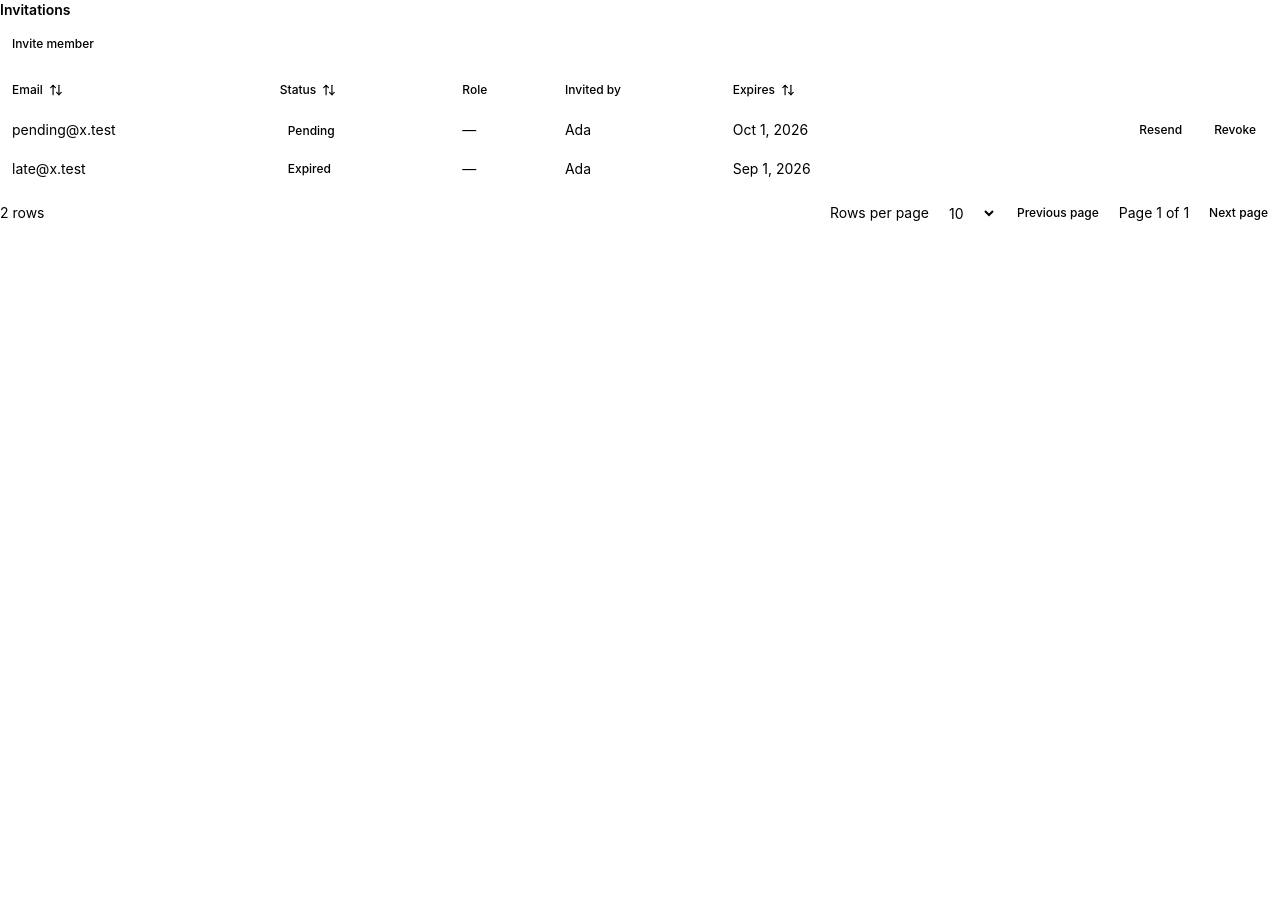
Test case: Invite: refusals are named (F-156) › 403 forbidden (a role the admin may not confer) says the action is not permitted
Expected: the text "pending@x.test" is shown, [0, 108, 268, 152]
Click the button "Invite member" at (53, 44), box [0, 28, 106, 60]
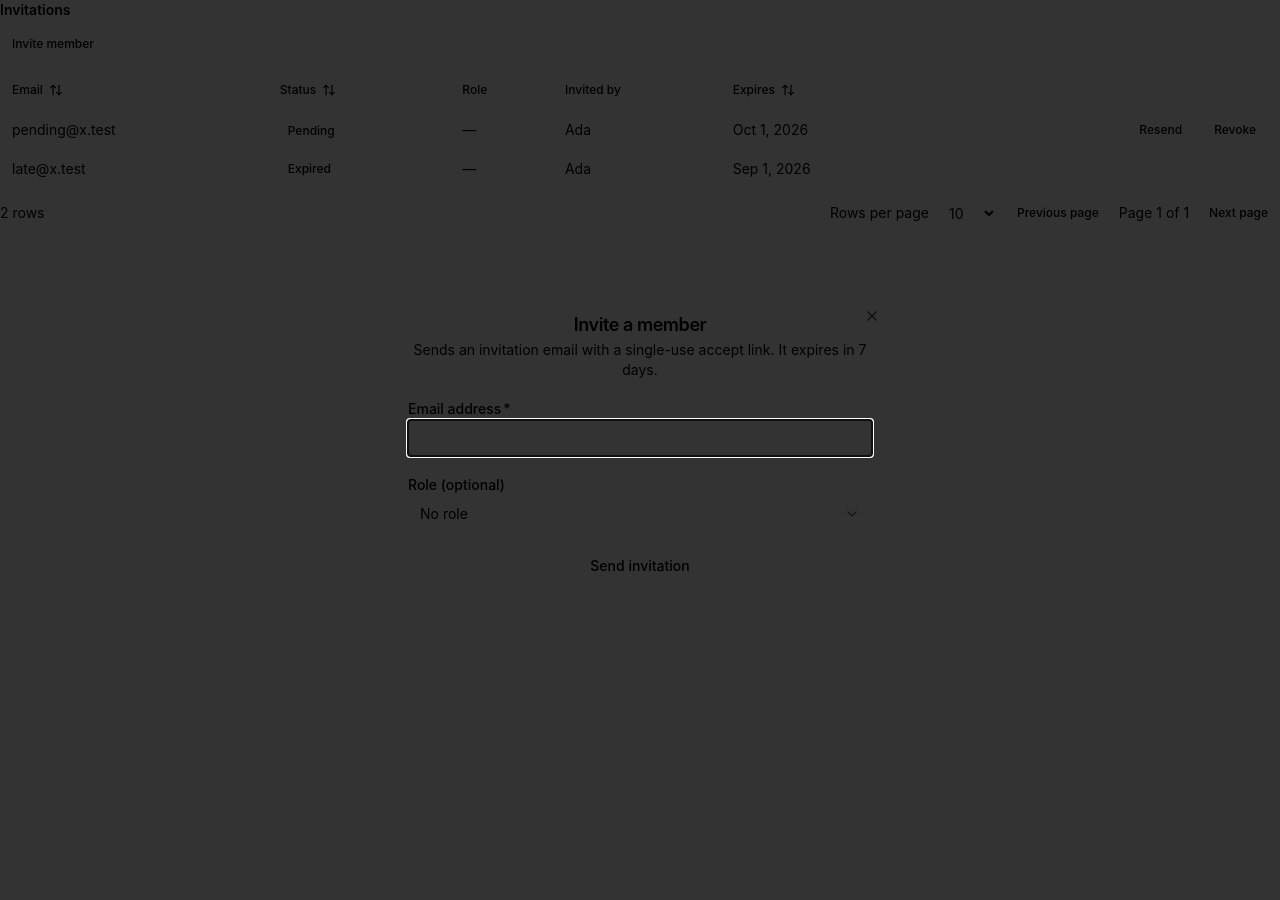
Type "new@x.test" into the field labelled "Email address*" at (640, 438), box [408, 420, 872, 456]
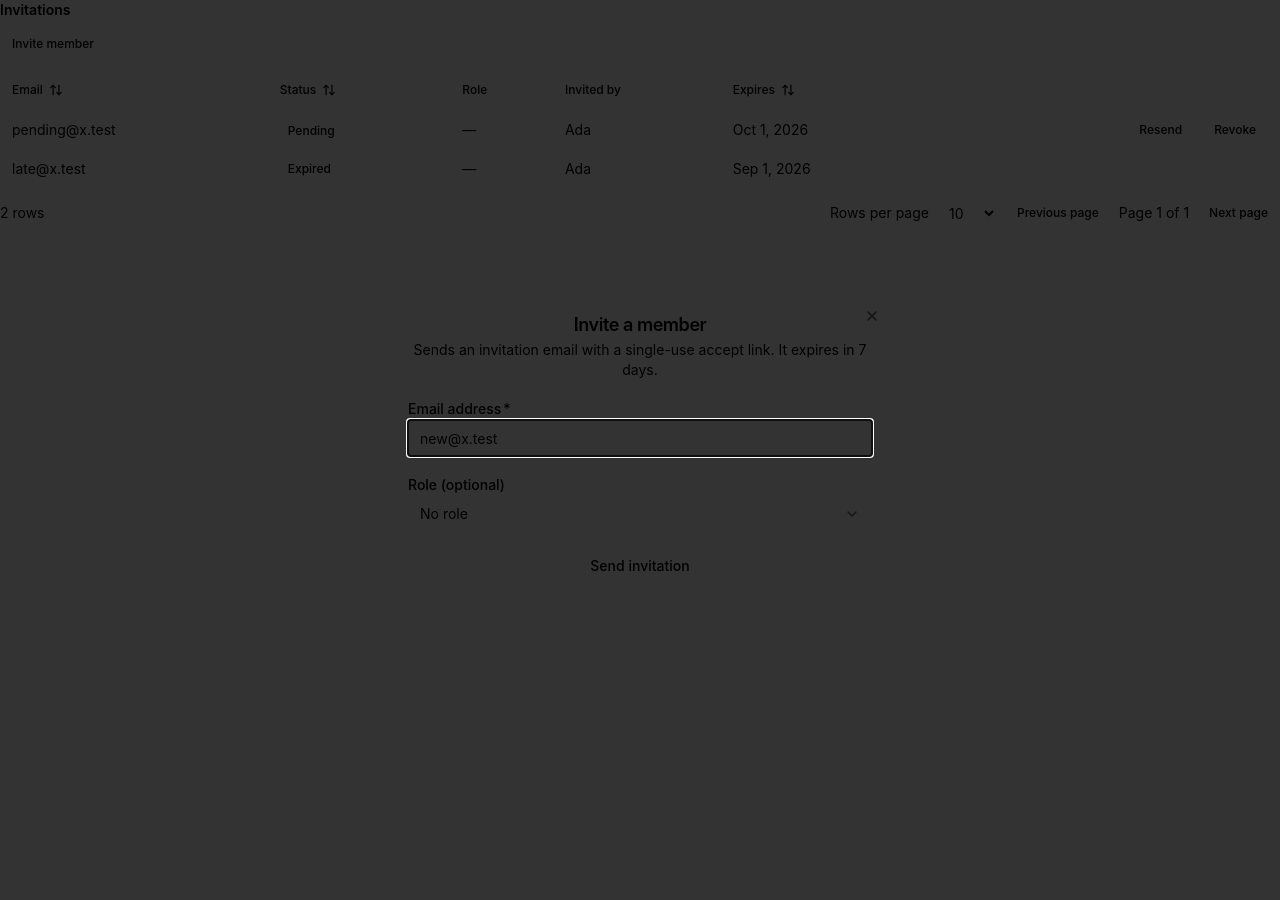
Click the dropdown at (444, 514), box [408, 496, 872, 532]
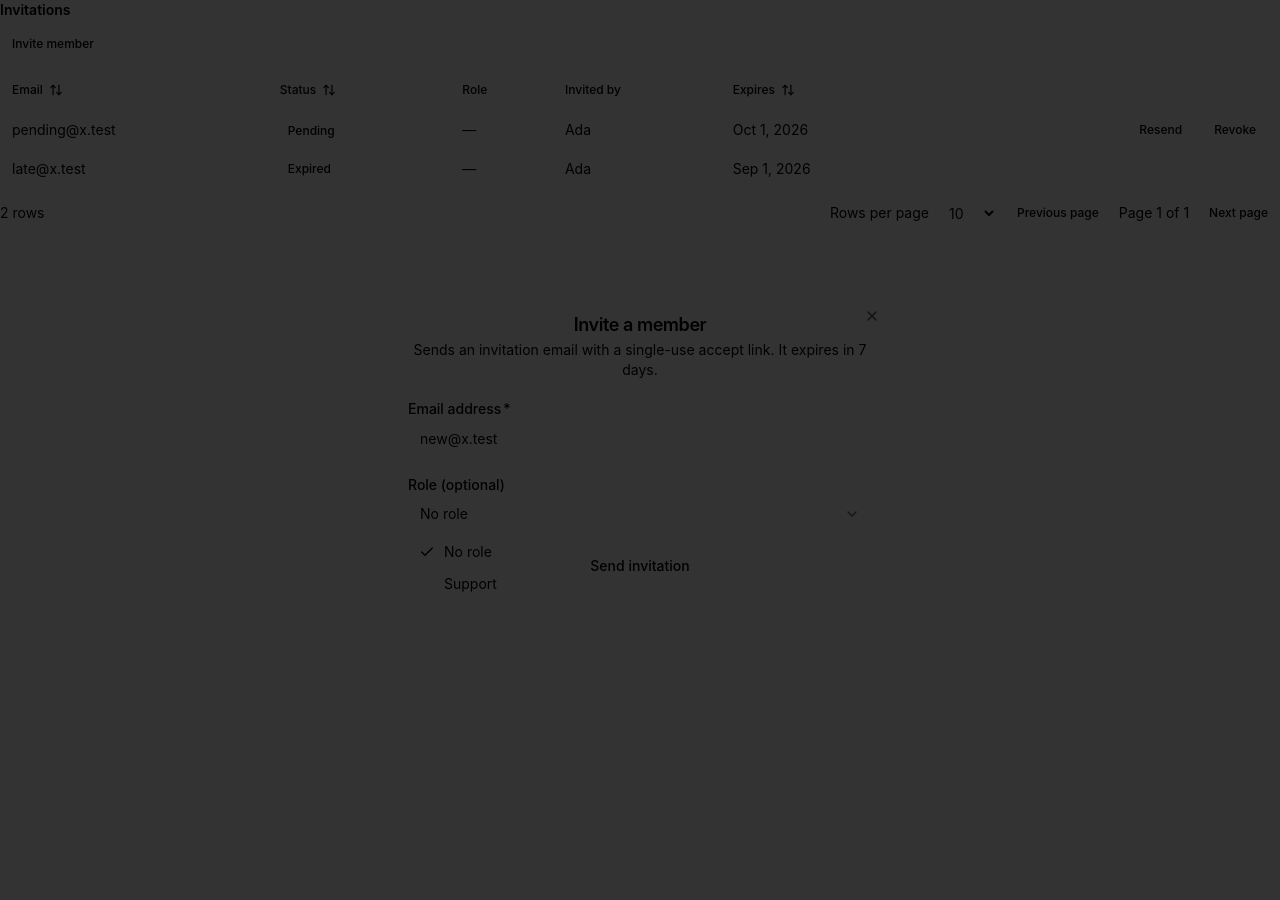
Click the option "Support" at (470, 584), box [444, 575, 497, 592]
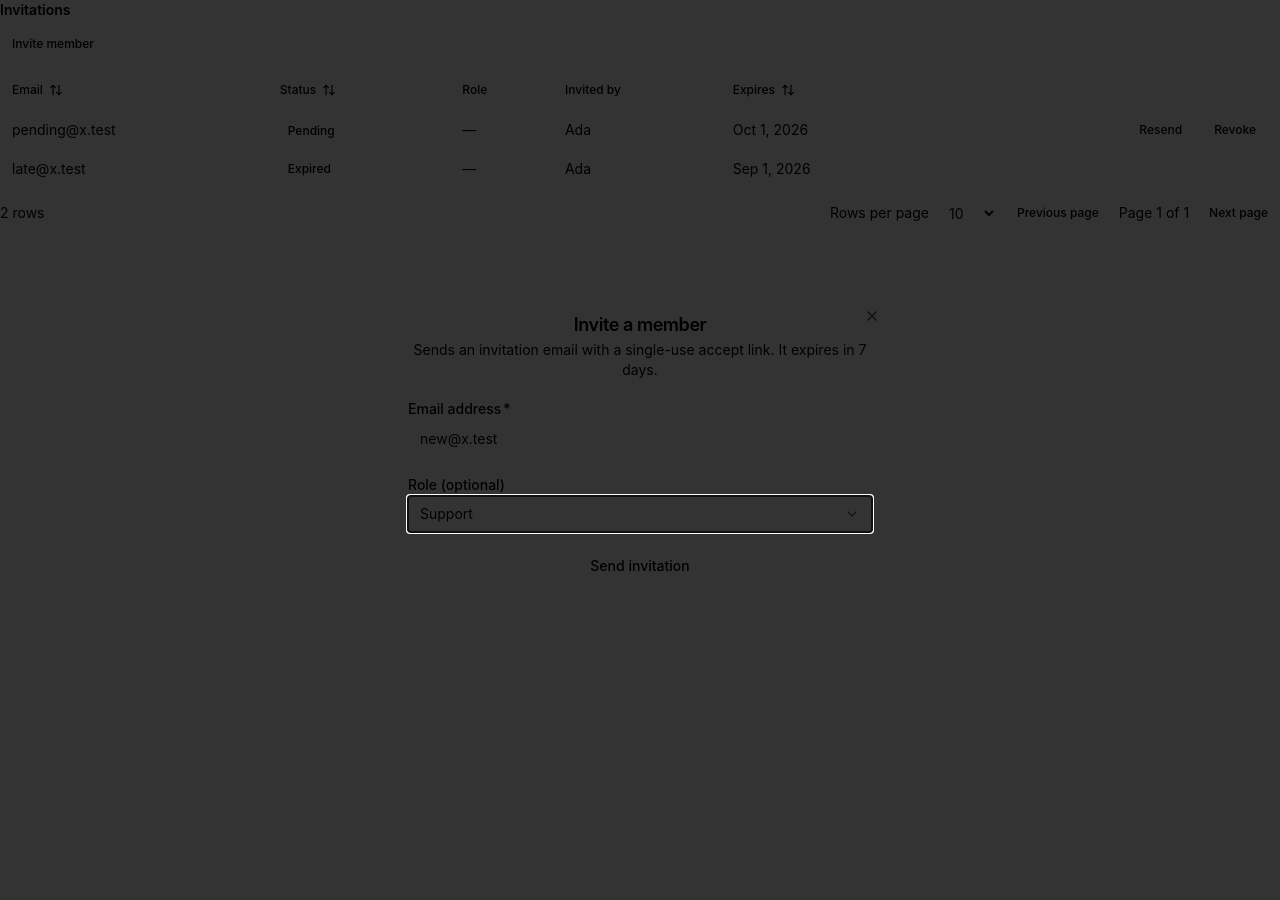
Click the button "Send invitation" at (640, 566), box [408, 548, 872, 584]
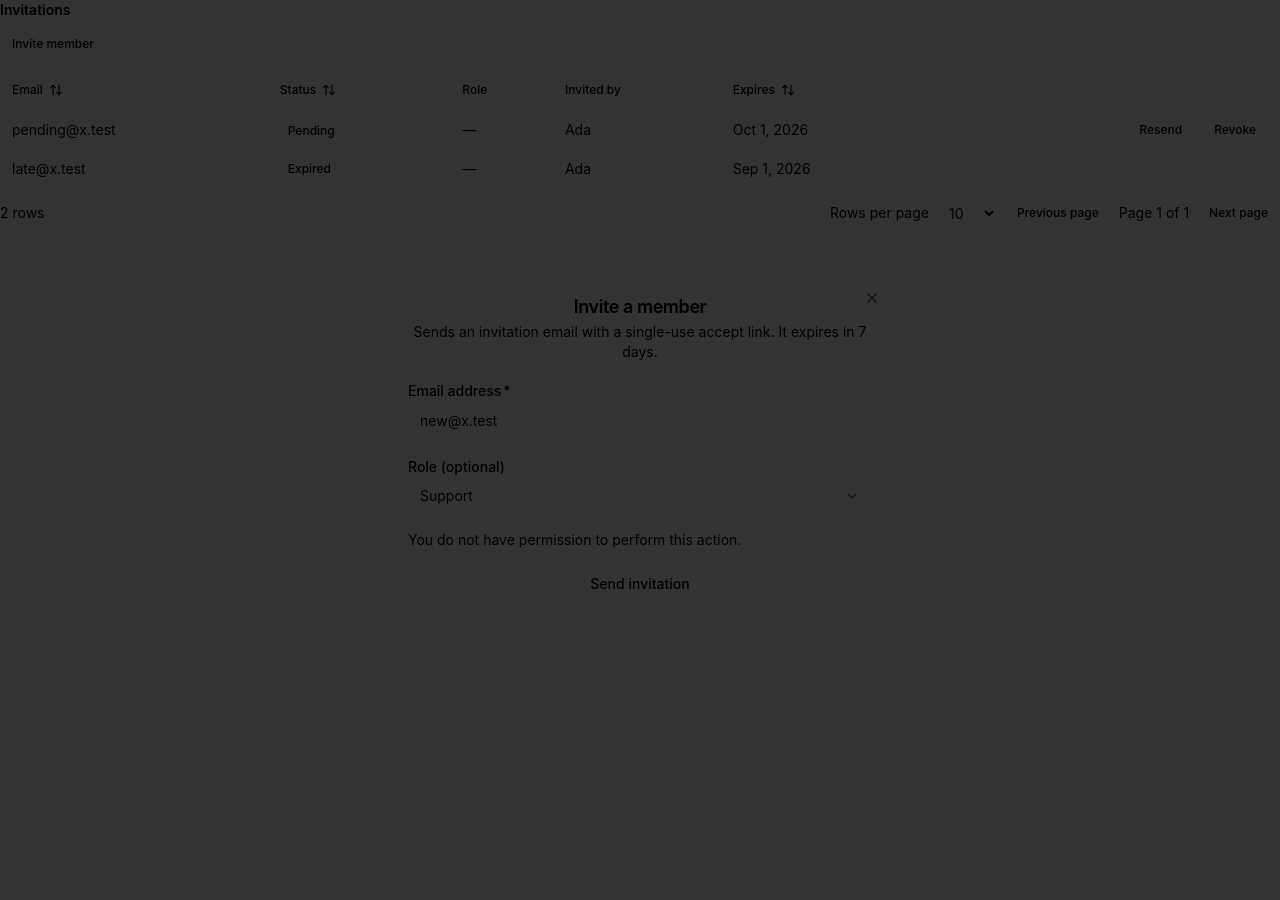
Expected: the message reads "You do not have permission to perform this action.", [408, 531, 741, 548]
